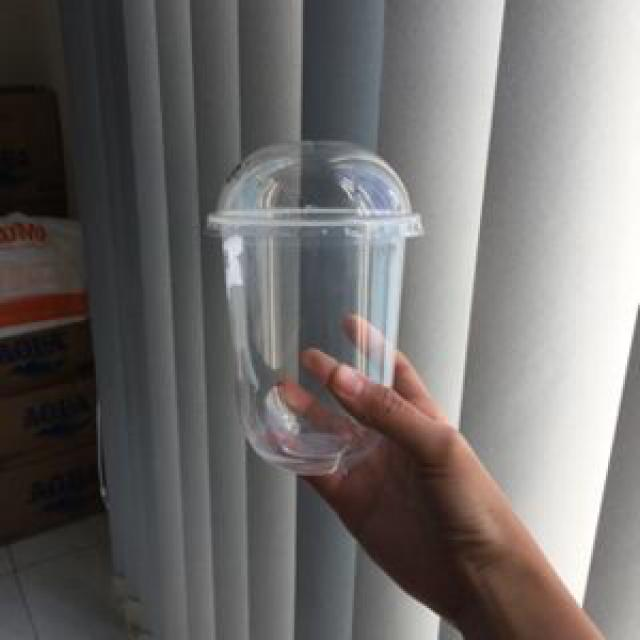plastic cup: (200, 136, 424, 478)
